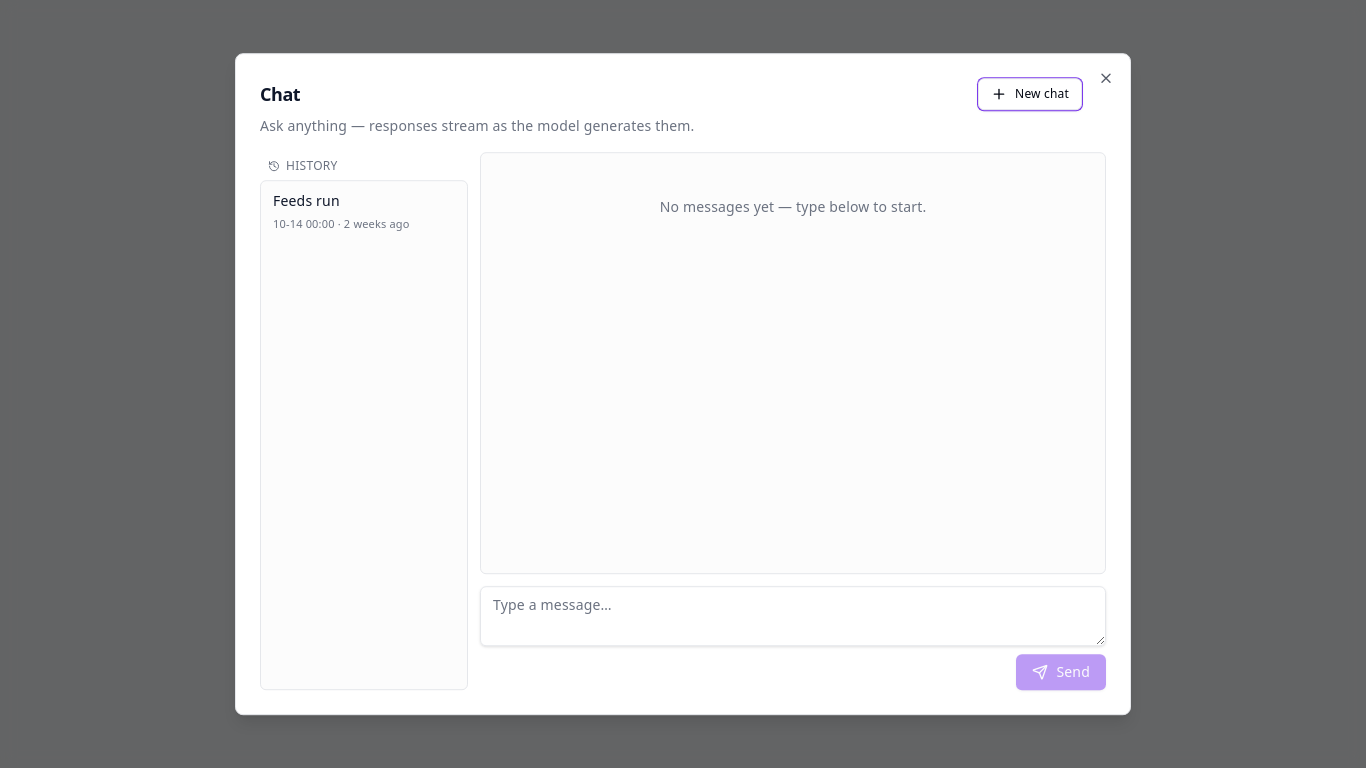
Test: ChatPanel chat history › streams a new turn below the replayed history on the active run id
Click the button with test id "chat-session-row" at (364,214), box x1=265 y1=185 x2=463 y2=243
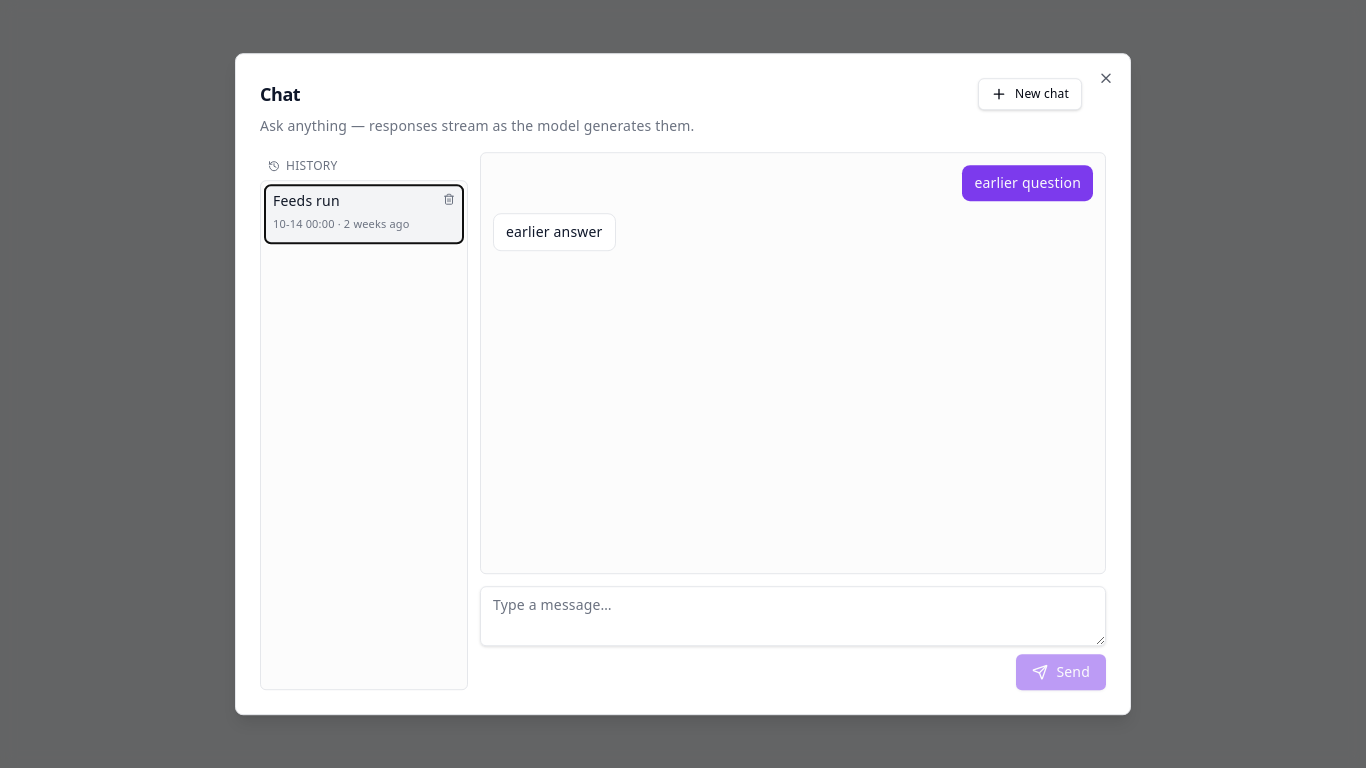
Expected: the element with test id "chat-message-assistant" is shown, x1=493 y1=213 x2=616 y2=251
Type "and now?" into the text box with test id "chat-input" at (793,616), box x1=480 y1=586 x2=1106 y2=646
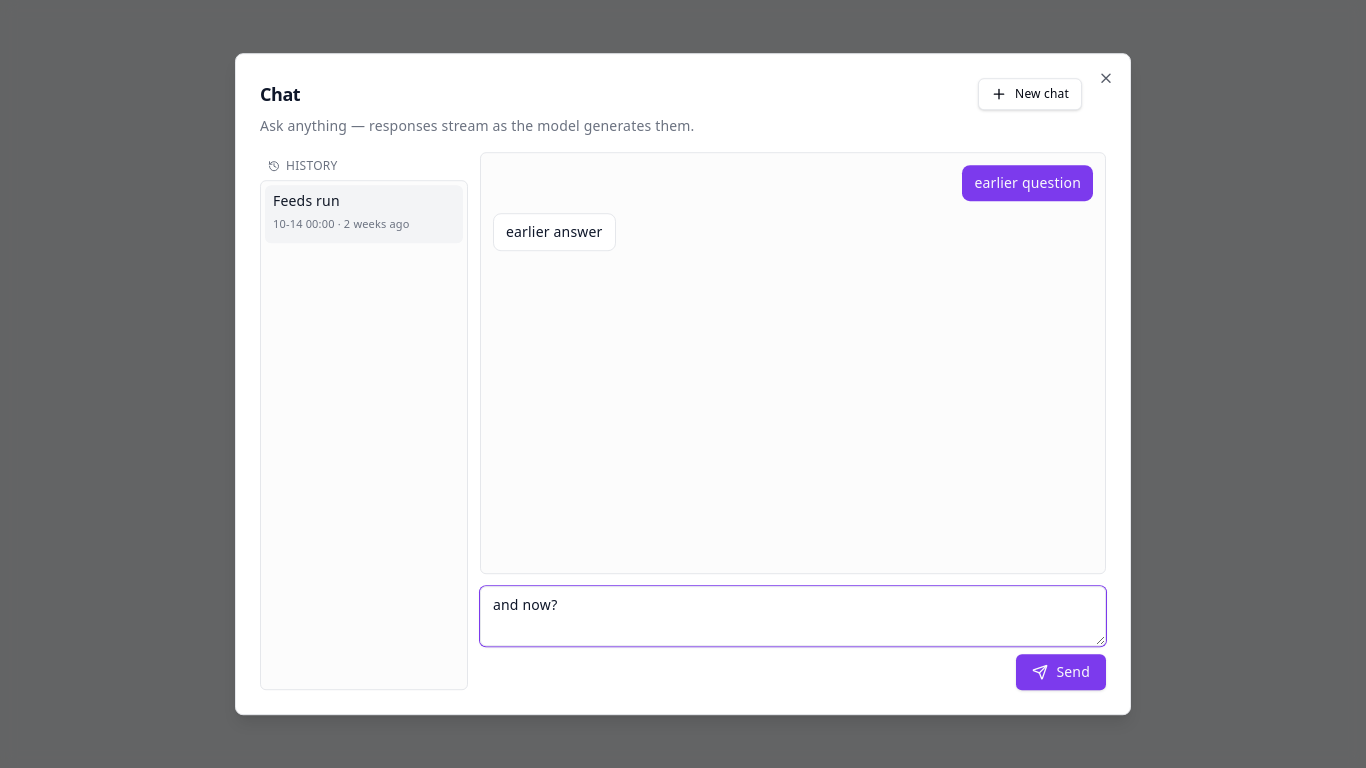
Click the button with test id "chat-send" at (1061,672), box x1=1016 y1=654 x2=1106 y2=690
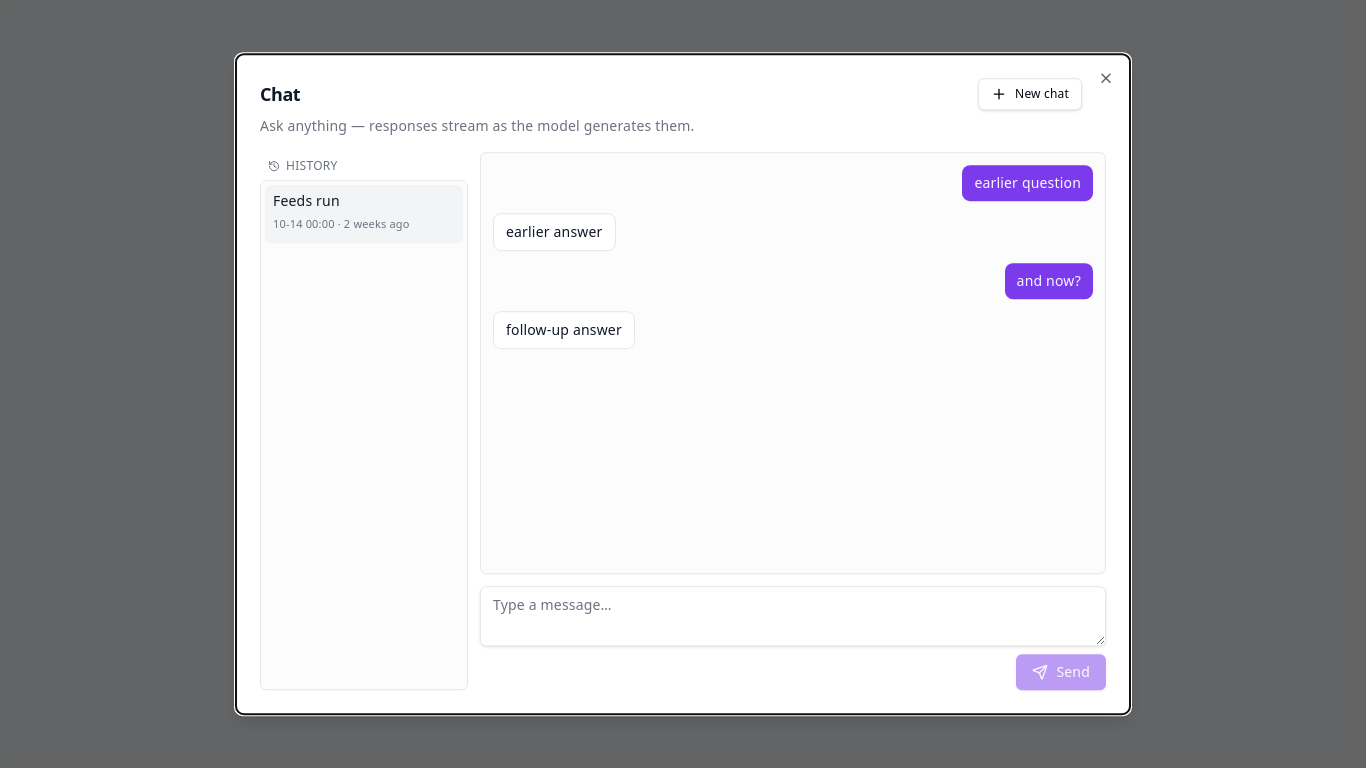
Expected: the number of elements with test id "chat-message-assistant" is 2, x1=493 y1=213 x2=616 y2=251; x1=493 y1=311 x2=635 y2=349
